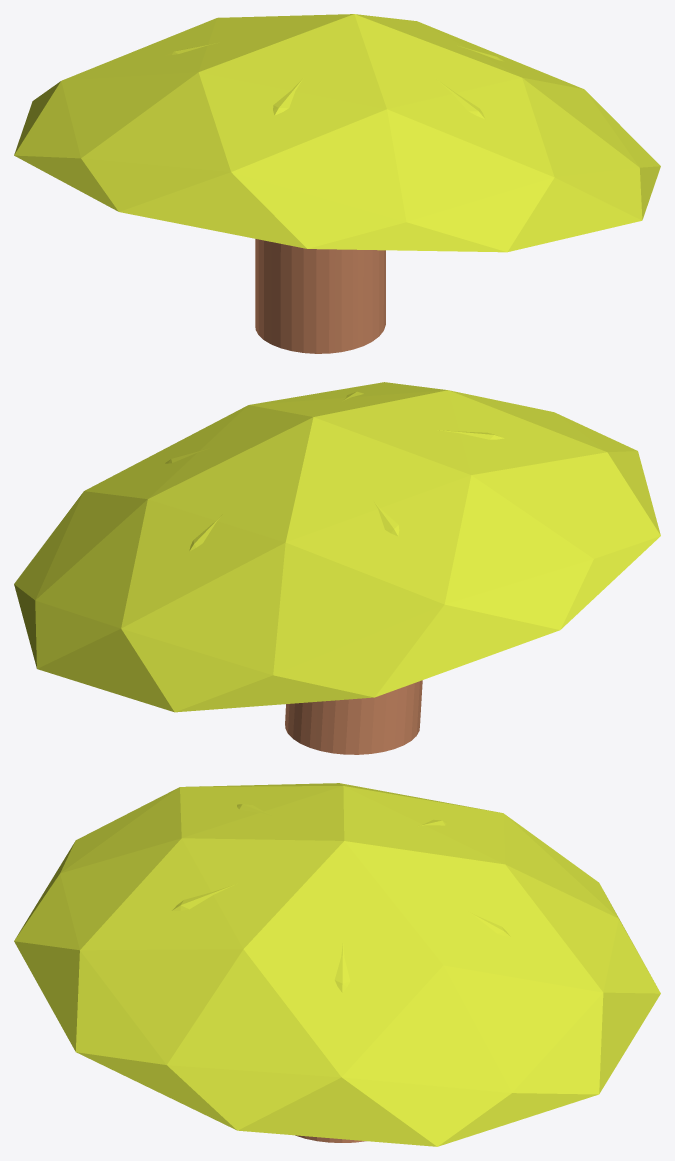
The model's file is cocumelom.fbx.
The picture shows the model from 3 angles, top to bottom: view 1: azimuth 30°, elevation 25°; view 2: azimuth 150°, elevation 25°; view 3: azimuth 270°, elevation 25°; orthographic projection. The views are drawn at different scales.
Parts seen in each view (by area): view 1: Esfera icosaédrica.002, Cilindro.002; view 2: Esfera icosaédrica.002, Cilindro.002; view 3: Esfera icosaédrica.002.
Boxes of the visible parts, <box> form: Esfera icosaédrica.002: <box>14,14,660,252</box>; Cilindro.002: <box>255,239,385,353</box>; Esfera icosaédrica.002: <box>14,382,660,712</box>; Cilindro.002: <box>285,680,422,754</box>; Esfera icosaédrica.002: <box>14,783,660,1146</box>.
Bounding box in the file's own units: 267 × 141 × 281.
